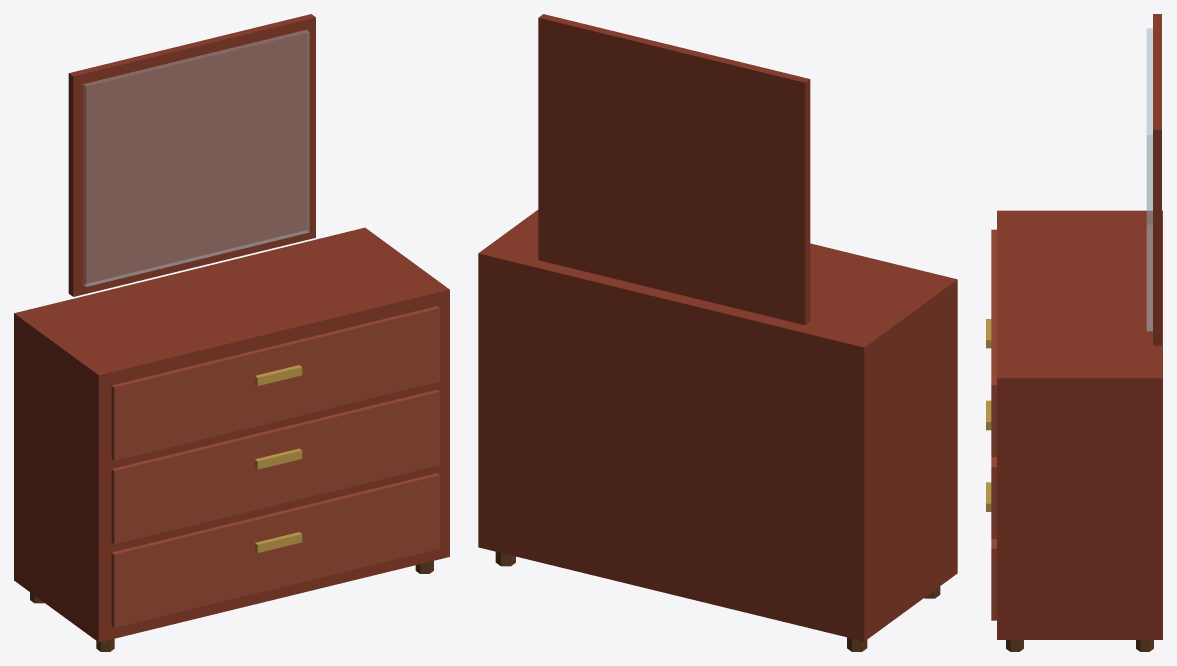
Rendered from dresser.fbx.
3 renders of one model, left to right at view 1: azimuth 30°, elevation 25°; view 2: azimuth 150°, elevation 25°; view 3: azimuth 270°, elevation 25°, orthographic. The views are drawn at different scales.
Visible parts, largest first — view 1: dresser; view 2: dresser; view 3: dresser.
Boxes of the visible parts, x1,y1,x2,y2 form: dresser: [14, 14, 449, 651]; dresser: [478, 14, 957, 651]; dresser: [986, 14, 1162, 651].
Size of the model in its own units: 4.4 by 6.12 by 1.96.
